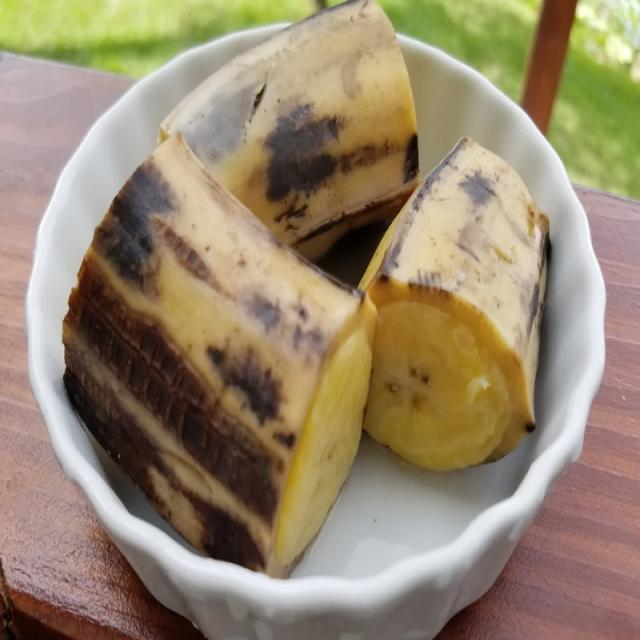platano: (47, 10, 580, 612)
